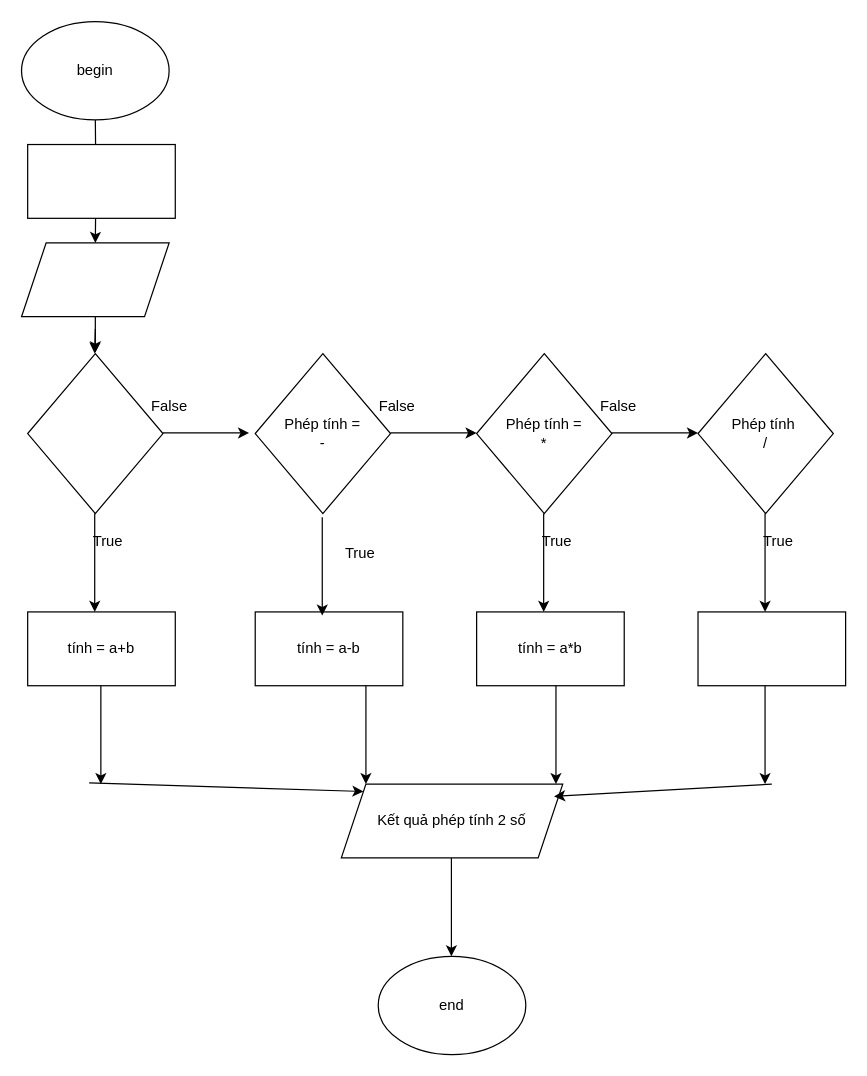
The diagram is 867 pixels wide and 1076 high, and some of its shapes have lost their labels. The shapes that lost their labels are listed below. From the top down, each one's centre as x and y in pixels, then its label:
At point (100, 180): "a,b,pheptinh".
At point (94, 279): "a,b,".
At point (94, 433): "Phép tính= +".
At point (771, 648): "tính = a/b".
